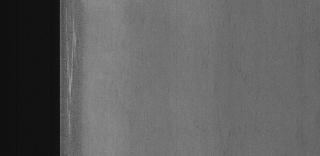silk spot: (60, 5, 101, 122)
